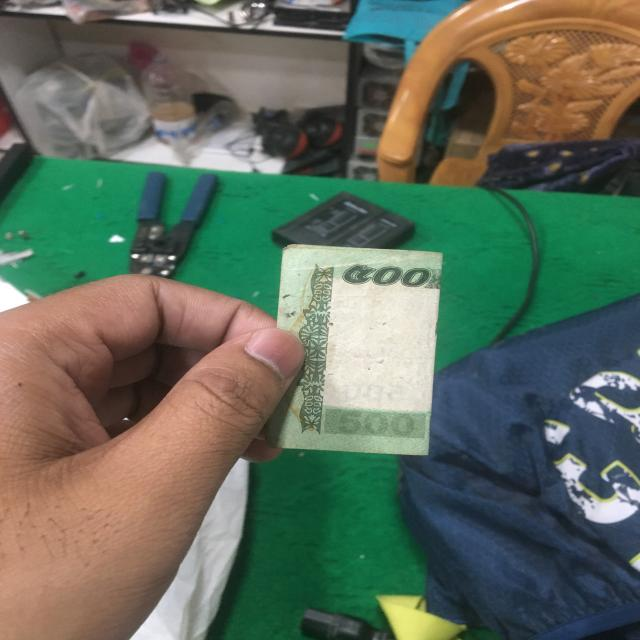Taka: (276, 246, 430, 458)
